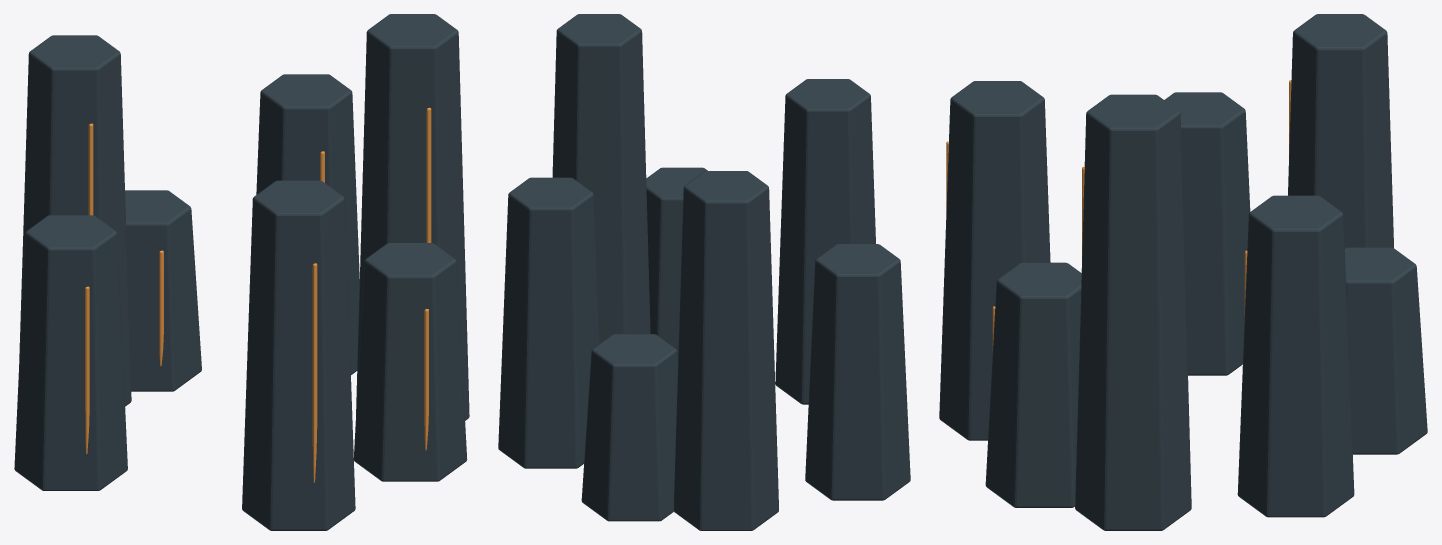
File: biome_cinder.glb
3 views of the same model, side by side, from view 1: azimuth 30°, elevation 25°; view 2: azimuth 150°, elevation 25°; view 3: azimuth 270°, elevation 25° (orthographic). The views are drawn at different scales.
Visible parts, largest first — view 1: BasaltColumn.002, EmberCrack; view 2: BasaltColumn.002; view 3: BasaltColumn.002, EmberCrack.
Part boxes in pixels (<box>): BasaltColumn.002: <box>14,14,469,530</box>; EmberCrack: <box>85,107,431,482</box>; BasaltColumn.002: <box>498,14,910,530</box>; BasaltColumn.002: <box>939,14,1427,530</box>; EmberCrack: <box>946,80,1291,351</box>.
Bounding box in the file's own units: 5.01 × 4.7 × 5.21.
